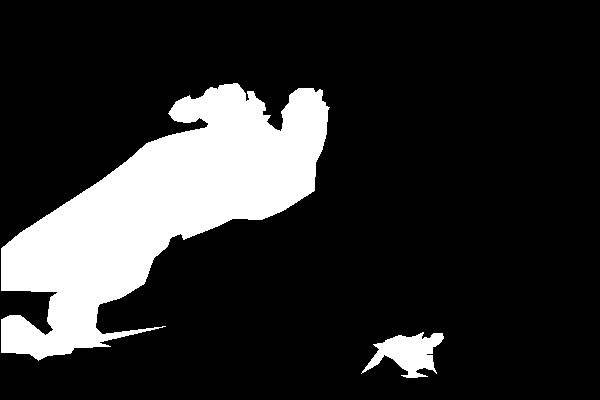Fire: (280, 89, 330, 176), (400, 333, 444, 354)
